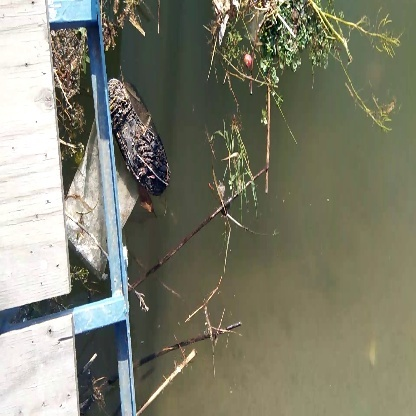plastic-garbage: (107, 74, 175, 196)
